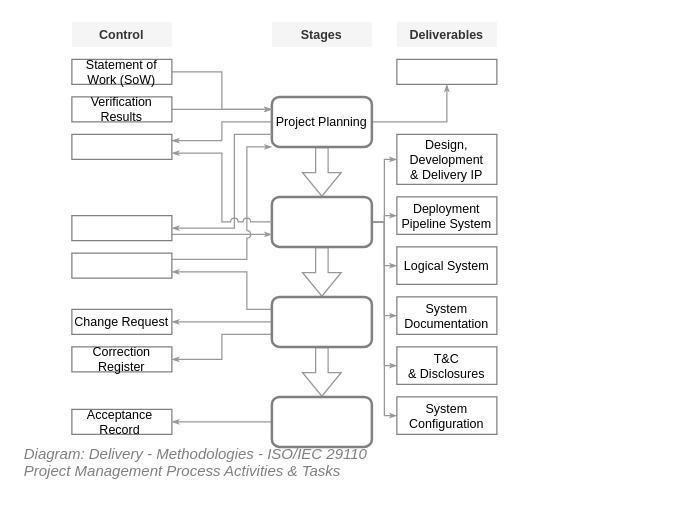
Image size: 693x520. Some labels were removed from this diagram. The box of each missing label's shape, as (x1, y1, x2, y2) in pixels:
Meeting Record: (71, 133, 172, 159)
Project Assessment: (270, 295, 372, 348)
Project Closure: (270, 395, 372, 448)
Project Plan: (71, 214, 172, 241)
Project Plan Execution: (270, 195, 372, 248)
Project Repositor(ies): (396, 58, 497, 84)
Project Status Record: (71, 252, 172, 278)
